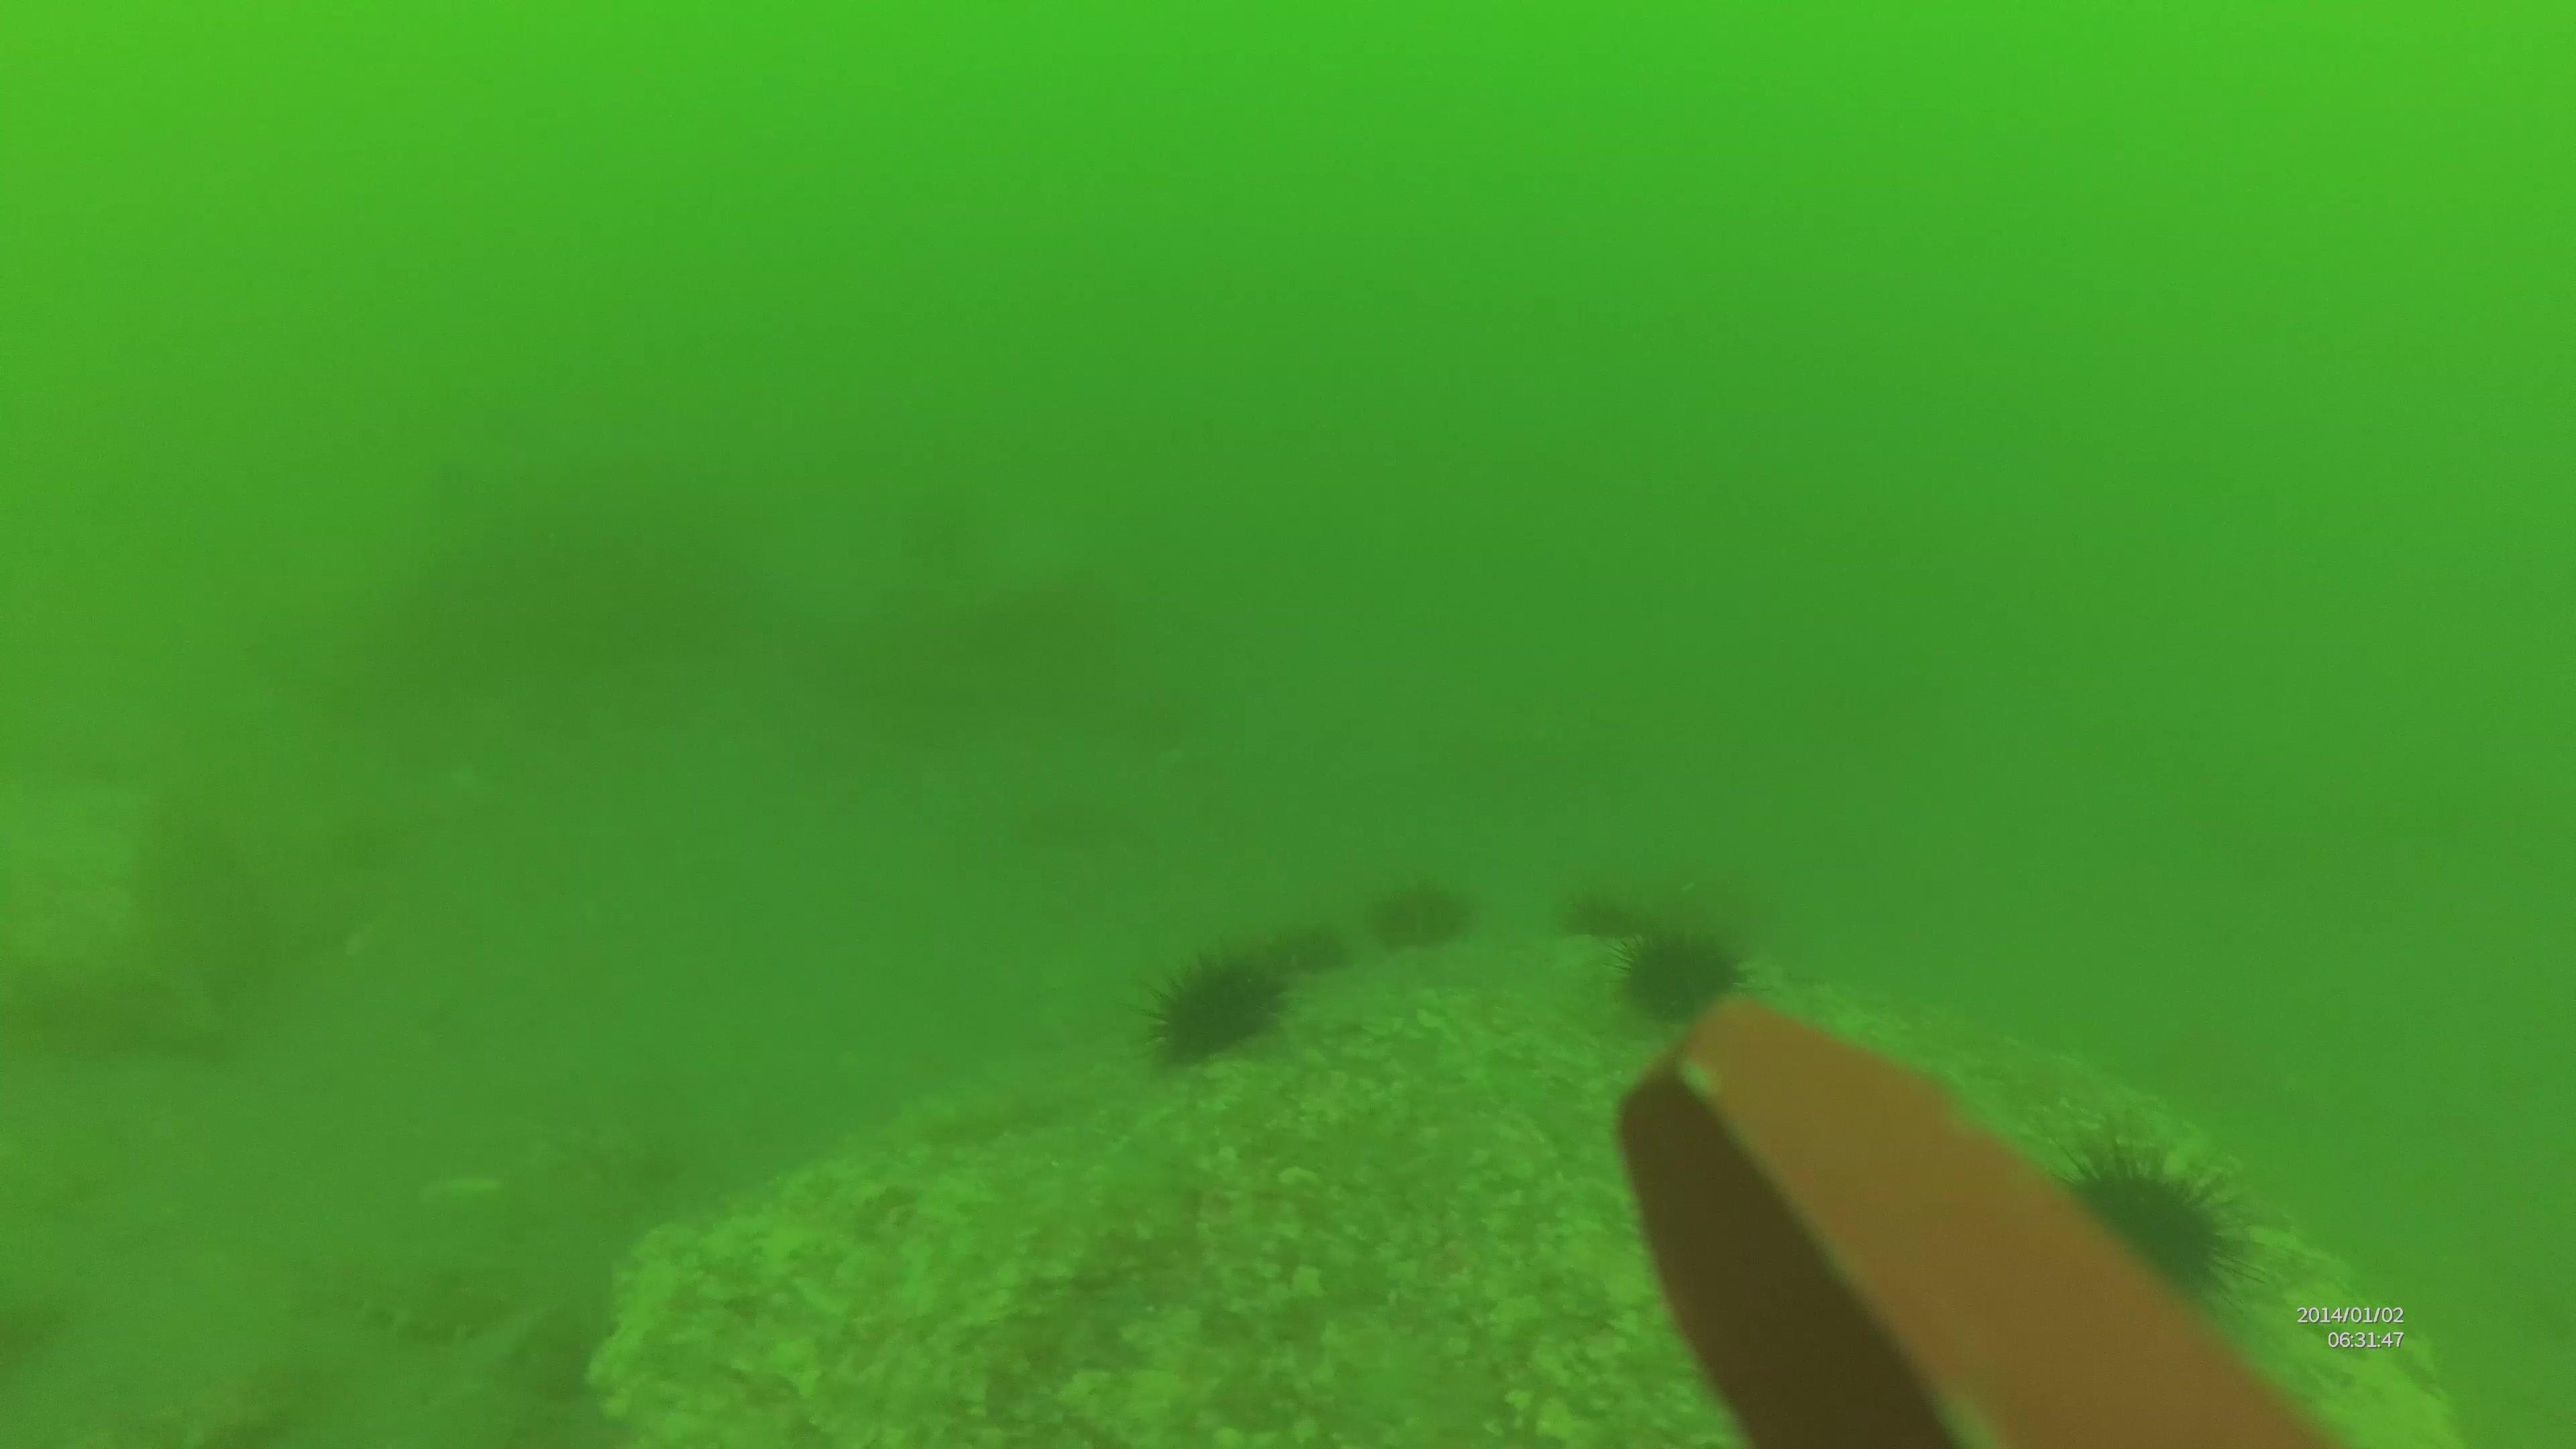echinus: (2035, 1120, 2268, 1316), (1127, 945, 1292, 1065), (1606, 925, 1757, 1028), (1353, 872, 1476, 962), (1553, 883, 1624, 952)
